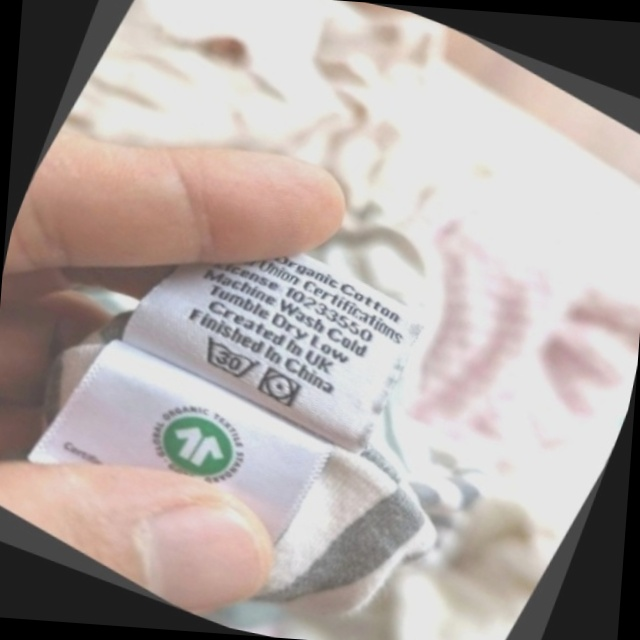30C: (182, 321, 274, 397)
tumble_dry_low: (245, 355, 314, 420)
